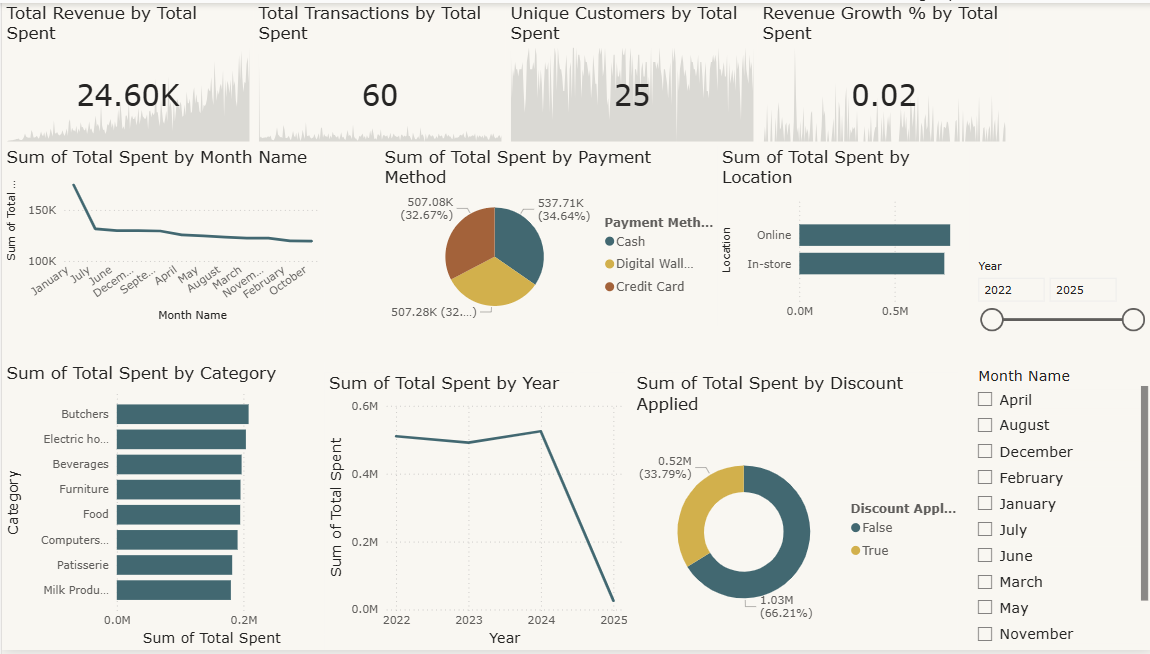

This screenshot's page, from the dashboard's own definition file:
{"tool":"powerbi","page":{"name":"Page 1","canvas":[1280,720],"ordinal":0},"visuals":[{"type":"kpi","fields":{"Indicator":["Fact_Sales.Total Revenue"],"TrendLine":["Fact_Sales.Total Spent"]},"box":[0,0,280.2,160.1],"z":0},{"type":"kpi","fields":{"Indicator":["Fact_Sales.Total Transactions"],"TrendLine":["Fact_Sales.Total Spent"]},"box":[280.2,0,280.2,160.1],"z":1000},{"type":"kpi","fields":{"Indicator":["Fact_Sales.Unique Customers"],"TrendLine":["Fact_Sales.Total Spent"]},"box":[560.5,0,280.2,160.1],"z":2000},{"type":"kpi","fields":{"Indicator":["Fact_Sales.Revenue Growth %"],"TrendLine":["Fact_Sales.Total Spent"]},"box":[840.7,0,280.2,160.1],"z":3000},{"type":"lineChart","fields":{"Category":["retail_store_sales.Month Name"],"Y":["Sum(retail_store_sales.Total Spent)"]},"box":[0,160.1,358.6,200.2],"z":4000},{"type":"clusteredBarChart","fields":{"Y":["Sum(retail_store_sales.Total Spent)"],"Category":["retail_store_sales.Category"]},"box":[0,400.4,358.6,320.3],"z":5000},{"type":"lineChart","fields":{"Category":["retail_store_sales.Transaction Date.Variation.Date Hierarchy.Year","retail_store_sales.Transaction Date.Variation.Date Hierarchy.Quarter","retail_store_sales.Transaction Date.Variation.Date Hierarchy.Month","retail_store_sales.Transaction Date.Variation.Date Hierarchy.Day"],"Y":["Sum(retail_store_sales.Total Spent)"]},"box":[358.6,412,342,308.6],"z":6000},{"type":"pieChart","fields":{"Category":["retail_store_sales.Payment Method"],"Y":["Sum(retail_store_sales.Total Spent)"]},"box":[420.4,160.1,375.3,200.2],"z":7000},{"type":"donutChart","fields":{"Category":["retail_store_sales.Discount Applied"],"Y":["Sum(retail_store_sales.Total Spent)"]},"box":[700.6,412,362,308.6],"z":8000},{"type":"barChart","fields":{"Category":["retail_store_sales.Location"],"Y":["Sum(retail_store_sales.Total Spent)"]},"box":[795.7,160.1,280.2,200.2],"z":9000},{"type":"slicer","fields":{"Values":["retail_store_sales.Year"]},"box":[1072.6,280.2,206.8,120.1],"z":10000},{"type":"slicer","fields":{"Values":["retail_store_sales.Month Name"]},"box":[1072.6,400.4,206.8,320.3],"z":11000}]}

Visuals, with their boxes in screenshot pixels (x1, y1, x2, y2), scaled from the page's 1280x720 canvas onto the 1150x654 screenshot:
kpi - Fact_Sales.Total Revenue x Fact_Sales.Total Spent: (left=0, top=0, right=252, bottom=145)
kpi - Fact_Sales.Total Transactions x Fact_Sales.Total Spent: (left=252, top=0, right=503, bottom=145)
kpi - Fact_Sales.Unique Customers x Fact_Sales.Total Spent: (left=504, top=0, right=755, bottom=145)
kpi - Fact_Sales.Revenue Growth % x Fact_Sales.Total Spent: (left=755, top=0, right=1007, bottom=145)
lineChart - retail_store_sales.Month Name x Sum(retail_store_sales.Total Spent): (left=0, top=145, right=322, bottom=327)
clusteredBarChart - Sum(retail_store_sales.Total Spent) x retail_store_sales.Category: (left=0, top=364, right=322, bottom=653)
lineChart - retail_store_sales.Transaction Date.Variation.Date Hierarchy.Year x retail_store_sales.Transaction Date.Variation.Date Hierarchy.Quarter: (left=322, top=374, right=629, bottom=653)
pieChart - retail_store_sales.Payment Method x Sum(retail_store_sales.Total Spent): (left=378, top=145, right=715, bottom=327)
donutChart - retail_store_sales.Discount Applied x Sum(retail_store_sales.Total Spent): (left=629, top=374, right=955, bottom=653)
barChart - retail_store_sales.Location x Sum(retail_store_sales.Total Spent): (left=715, top=145, right=967, bottom=327)
slicer - retail_store_sales.Year: (left=964, top=255, right=1149, bottom=364)
slicer - retail_store_sales.Month Name: (left=964, top=364, right=1149, bottom=653)
